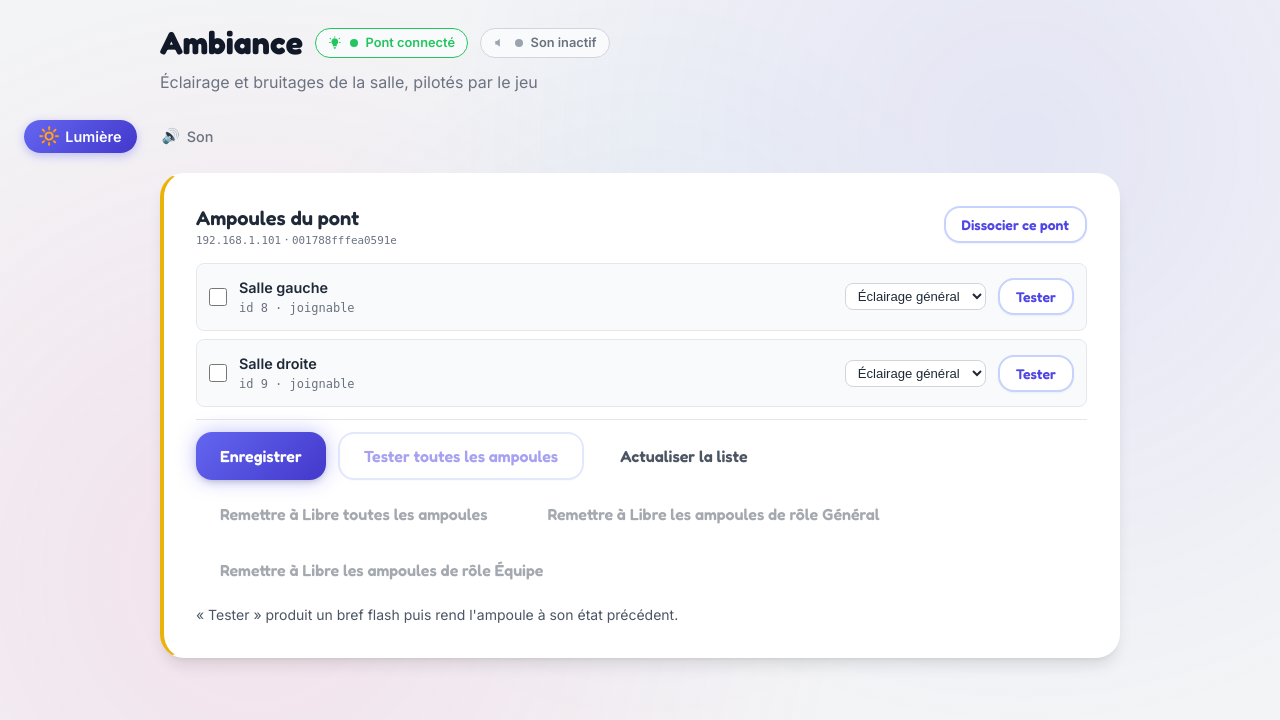
it: AmbiancePage — P2b : allumage/extinction immédiat › busy : message dédié, distinct des autres erreurs
The width and height of the screenshot is (1280, 720).
Expected: the text "Salle gauche" is shown, [239,279,328,296]
Click the checkbox labelled "Salle gauche" at (218, 297), box [209,288,227,306]
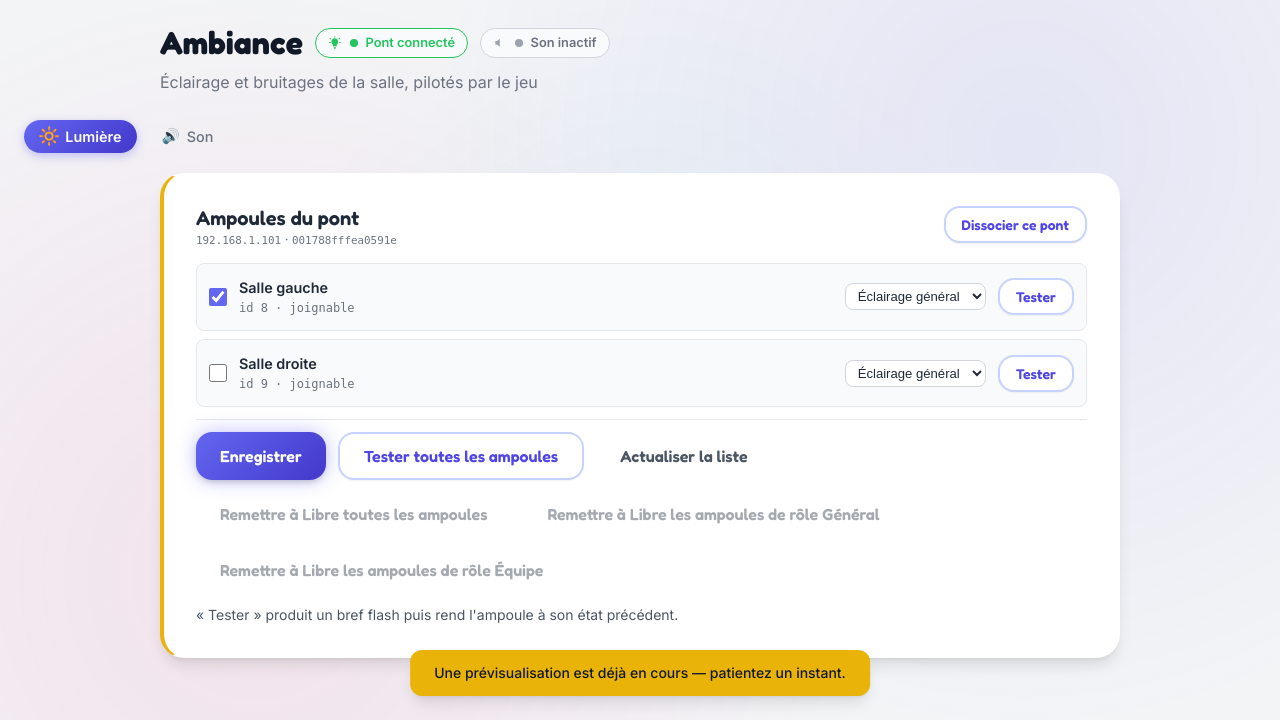
Now the text "Une prévisualisation est déjà en cours — patientez un instant." is shown, box [410,650,870,696]
